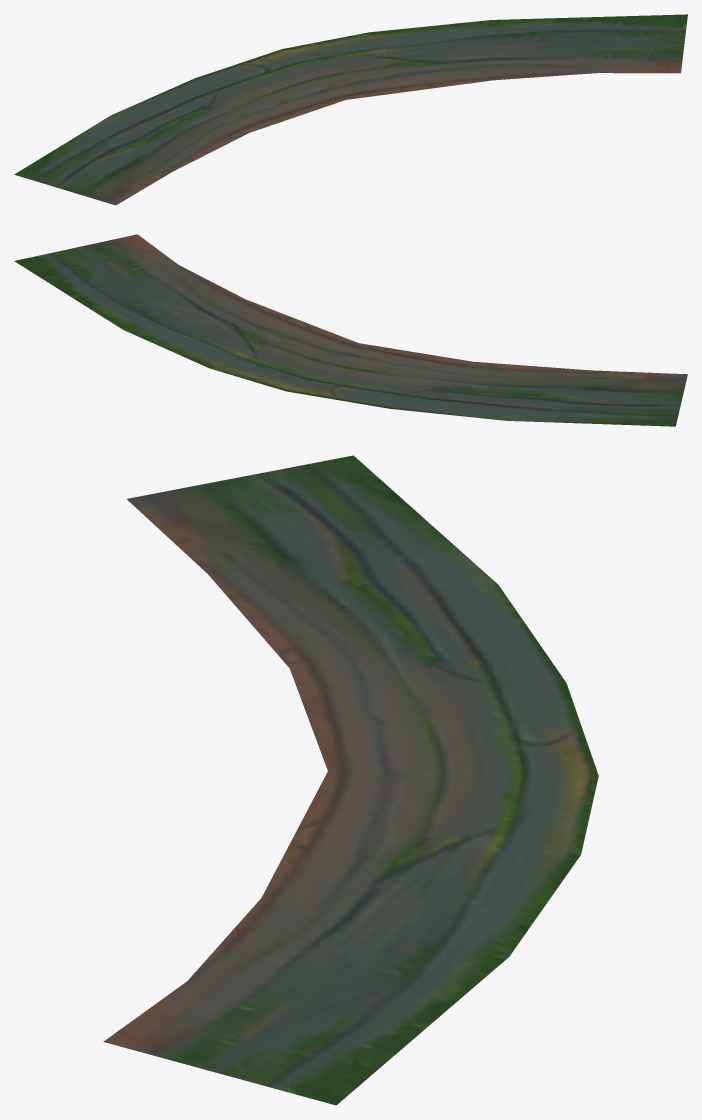
Rendered from SL_pian03.FBX.
3 renders of one model, top to bottom at view 1: azimuth 30°, elevation 25°; view 2: azimuth 150°, elevation 25°; view 3: azimuth 270°, elevation 25°, orthographic. The views are drawn at different scales.
Visible parts, largest first — view 1: SL_pian03_001; view 2: SL_pian03_001; view 3: SL_pian03_001.
Boxes of the visible parts, x1,y1,x2,y2 form: SL_pian03_001: (14, 14, 687, 205); SL_pian03_001: (14, 234, 687, 426); SL_pian03_001: (103, 455, 598, 1105).
Size of the model in its own units: 1396 by 1.84e-05 by 450.
